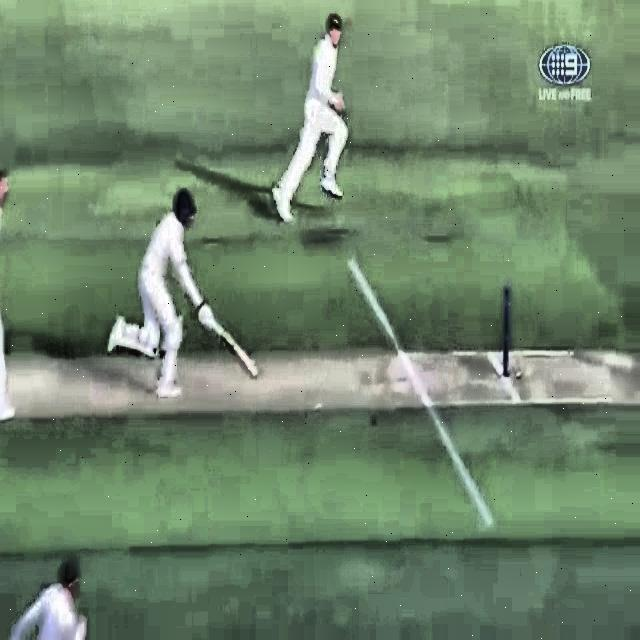Bat: (193, 303, 261, 383)
Pitch_Line: (345, 256, 495, 529)
Undis_Wicket: (495, 289, 514, 378)
